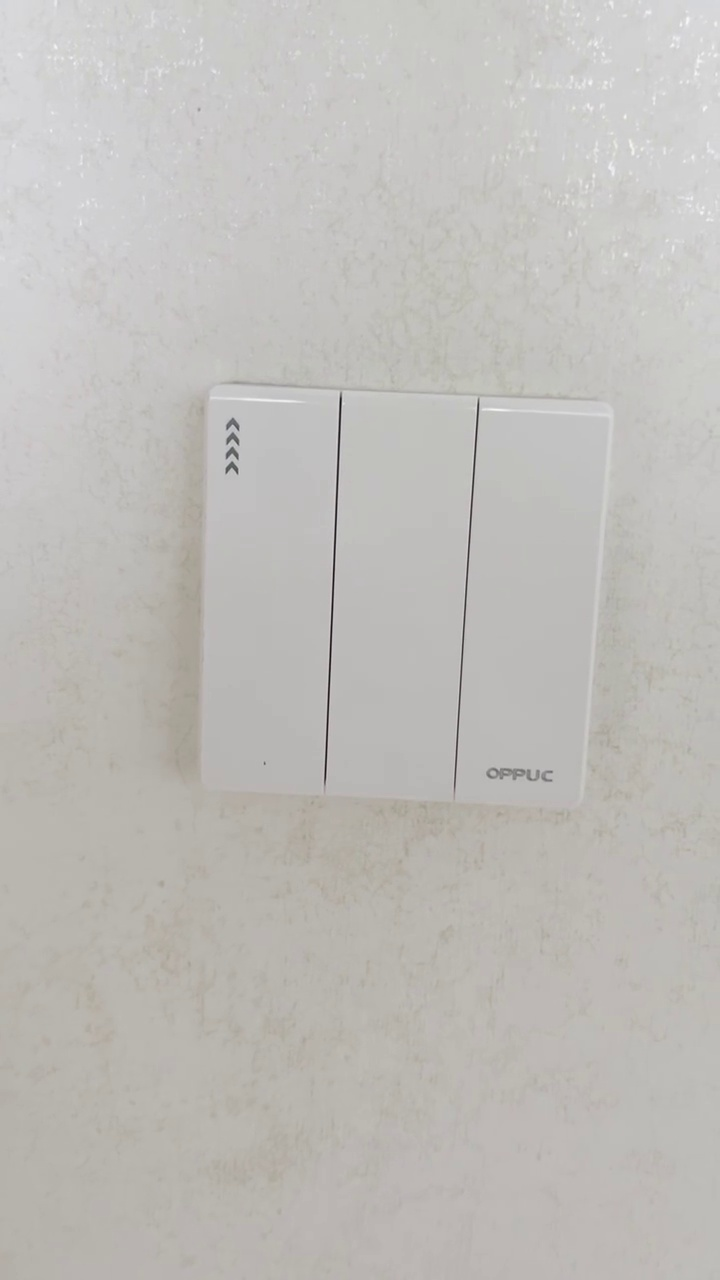button1: (460, 401, 600, 806), (329, 399, 467, 797), (209, 396, 338, 795)
